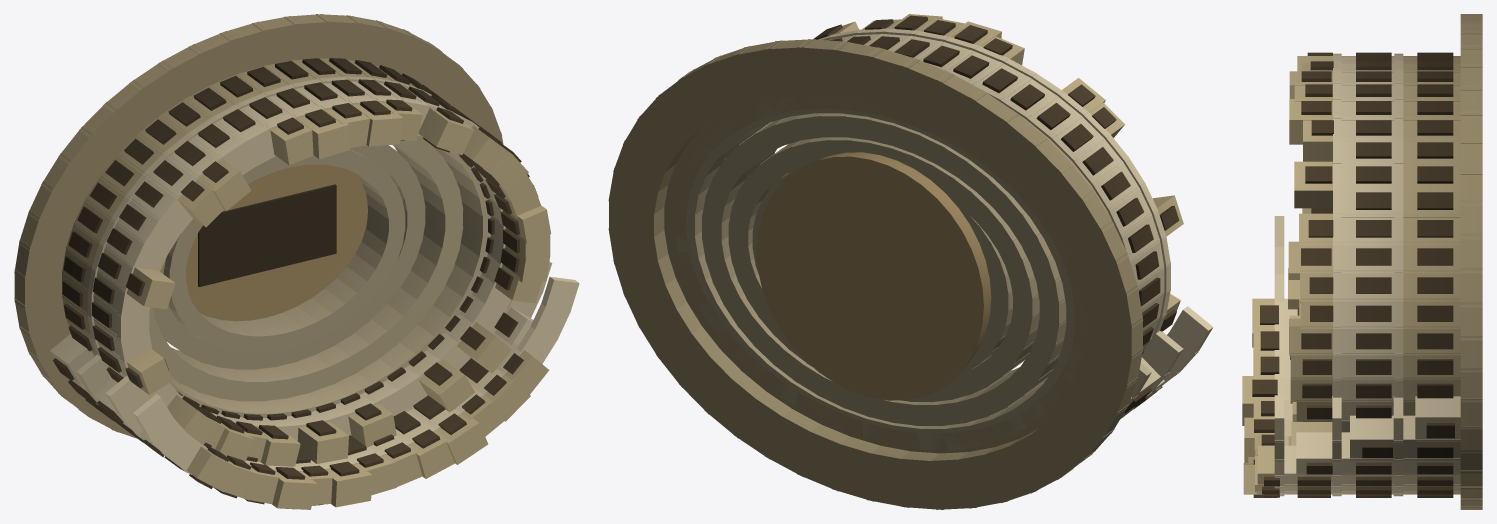
The model's file is colosseum.glb.
3 renders of one model, left to right at view 1: azimuth 30°, elevation 25°; view 2: azimuth 150°, elevation 25°; view 3: azimuth 270°, elevation 25°, orthographic. The views are drawn at different scales.
Parts seen in each view (by area): view 1: part-seating, part-arch, part-ruin, part-wallShade, part-travertine, part-arena; view 2: part-wallShade, part-seating, part-arena, part-travertine, part-arch, part-ruin; view 3: part-arch, part-travertine, part-wallShade, part-ruin.
Part boxes in pixels (<box>): part-seating: <box>149,136,490,417</box>; part-arch: <box>53,58,538,509</box>; part-ruin: <box>126,102,551,509</box>; part-wallShade: <box>14,14,503,438</box>; part-travertine: <box>50,76,579,474</box>; part-arena: <box>186,164,367,321</box>; part-wallShade: <box>608,39,1143,509</box>; part-seating: <box>675,97,1085,450</box>; part-arena: <box>756,152,991,400</box>; part-travertine: <box>766,28,1213,406</box>; part-arch: <box>767,15,1179,418</box>; part-ruin: <box>774,14,1183,314</box>; part-arch: <box>1252,52,1454,497</box>; part-travertine: <box>1274,53,1460,496</box>; part-wallShade: <box>1403,14,1482,509</box>; part-ruin: <box>1242,56,1332,494</box>.
Size of the model in its own units: 1.47 by 1.2 by 0.6053.
